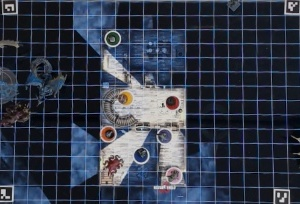blue: (130, 146, 151, 166)
green: (103, 28, 124, 48)
orange: (100, 123, 117, 142)
pink: (165, 165, 184, 185)
red: (165, 94, 183, 112)
violet: (157, 126, 173, 144)
yellow: (114, 90, 135, 108)
